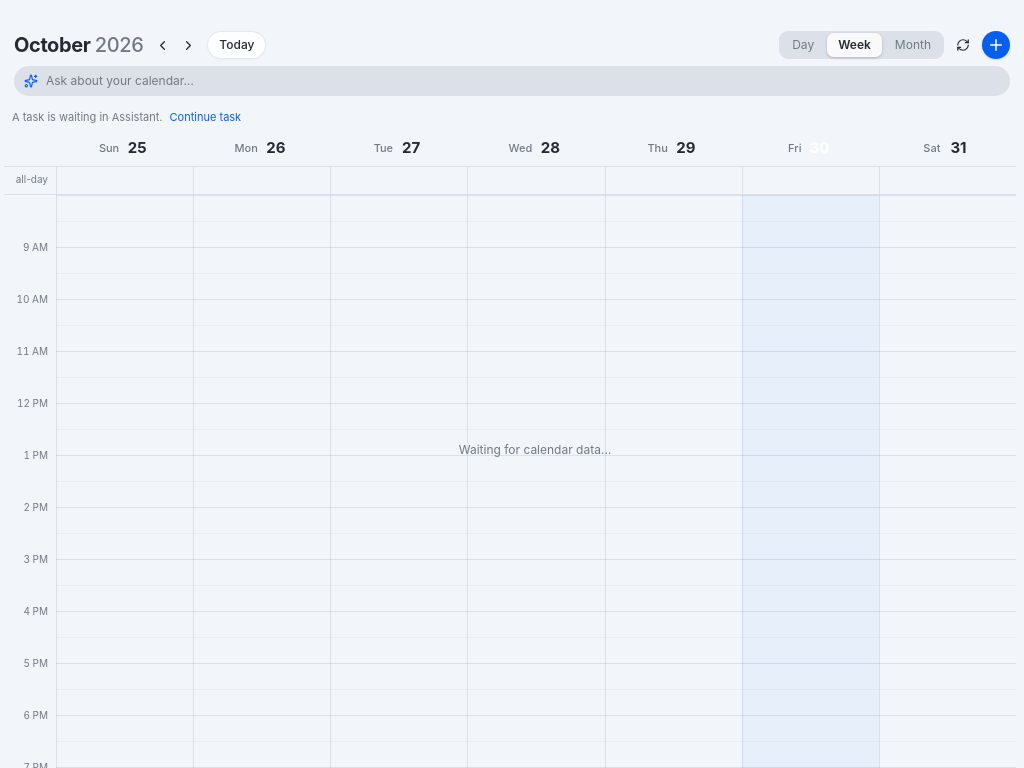
Test case: defaults to the designed week view and keeps Day, Week and Month navigation
Click the button "Day" at (803, 45), box [781, 33, 825, 57]
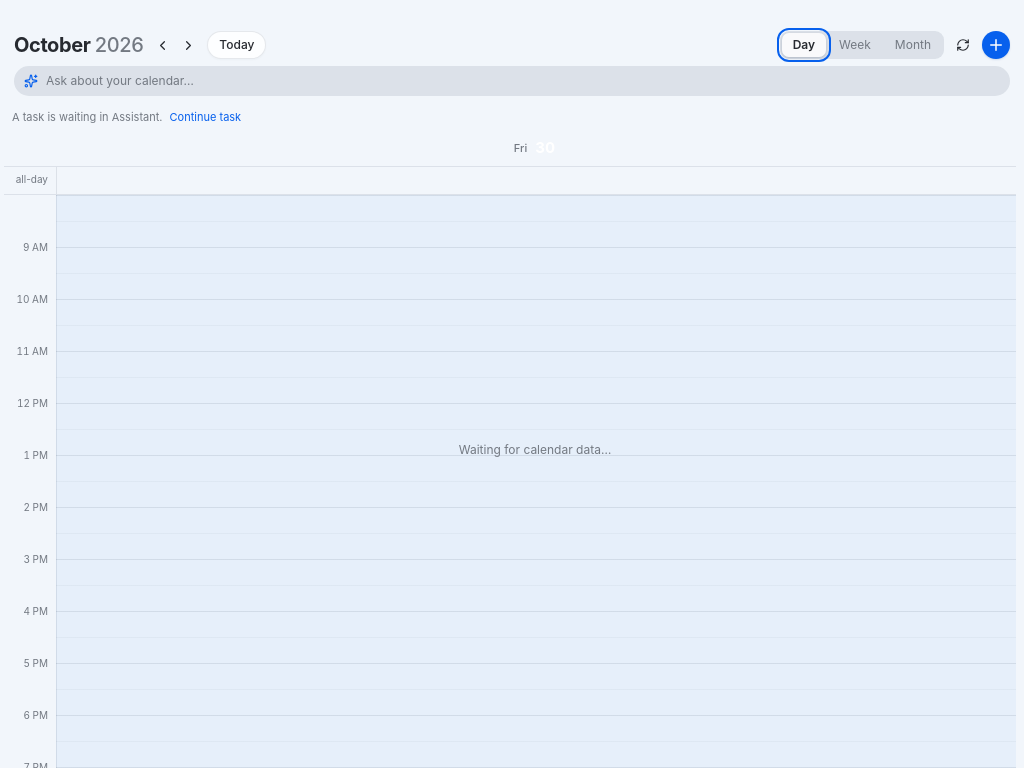
Check: the button named "Next day" is shown, box [175, 31, 201, 59]
Check: the element named "Day calendar" is shown
Click the button "Month" at (913, 45), box [884, 33, 942, 57]
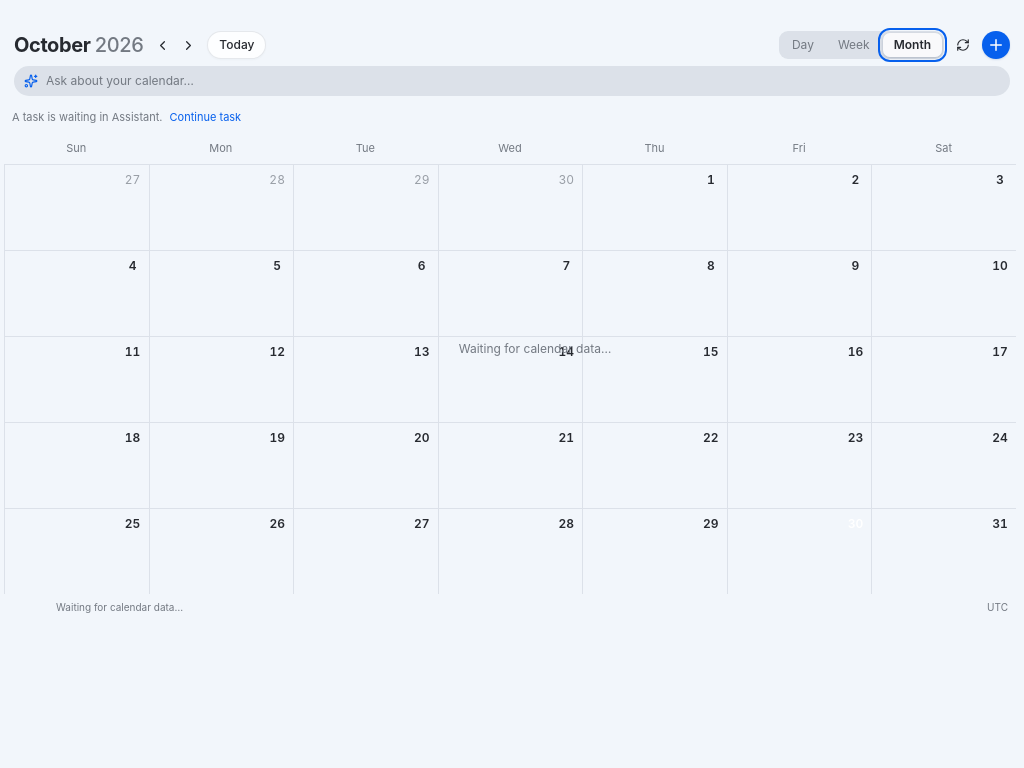
Check: the button named "Next month" is shown, box [175, 31, 201, 59]
Check: the element named "Month calendar" is shown, box [4, 132, 1016, 594]
